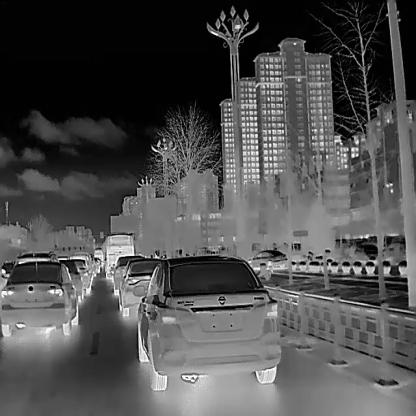bus: (102, 231, 135, 280)
car: (129, 251, 282, 390), (0, 259, 79, 336), (112, 257, 164, 316), (58, 254, 91, 301), (245, 248, 286, 269)
